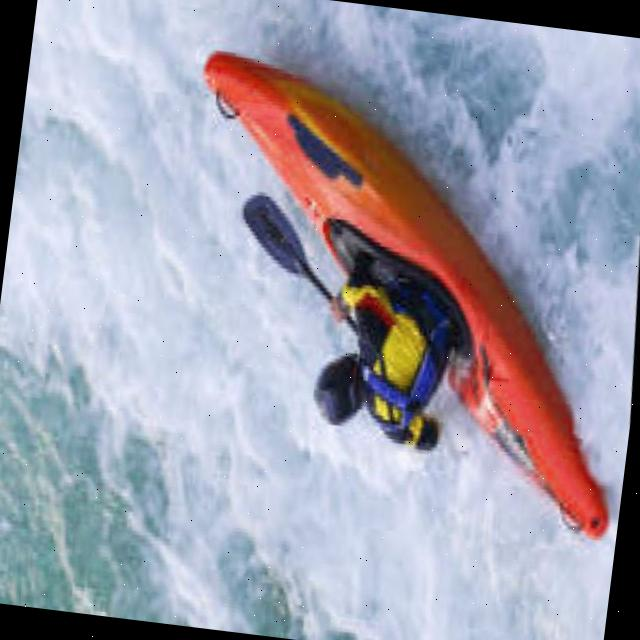kayak: (211, 54, 609, 536)
